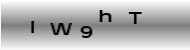9: (80, 23, 92, 38)
T: (127, 10, 143, 25)
W: (48, 22, 73, 36)
h: (97, 8, 112, 22)
l: (29, 20, 36, 34)
